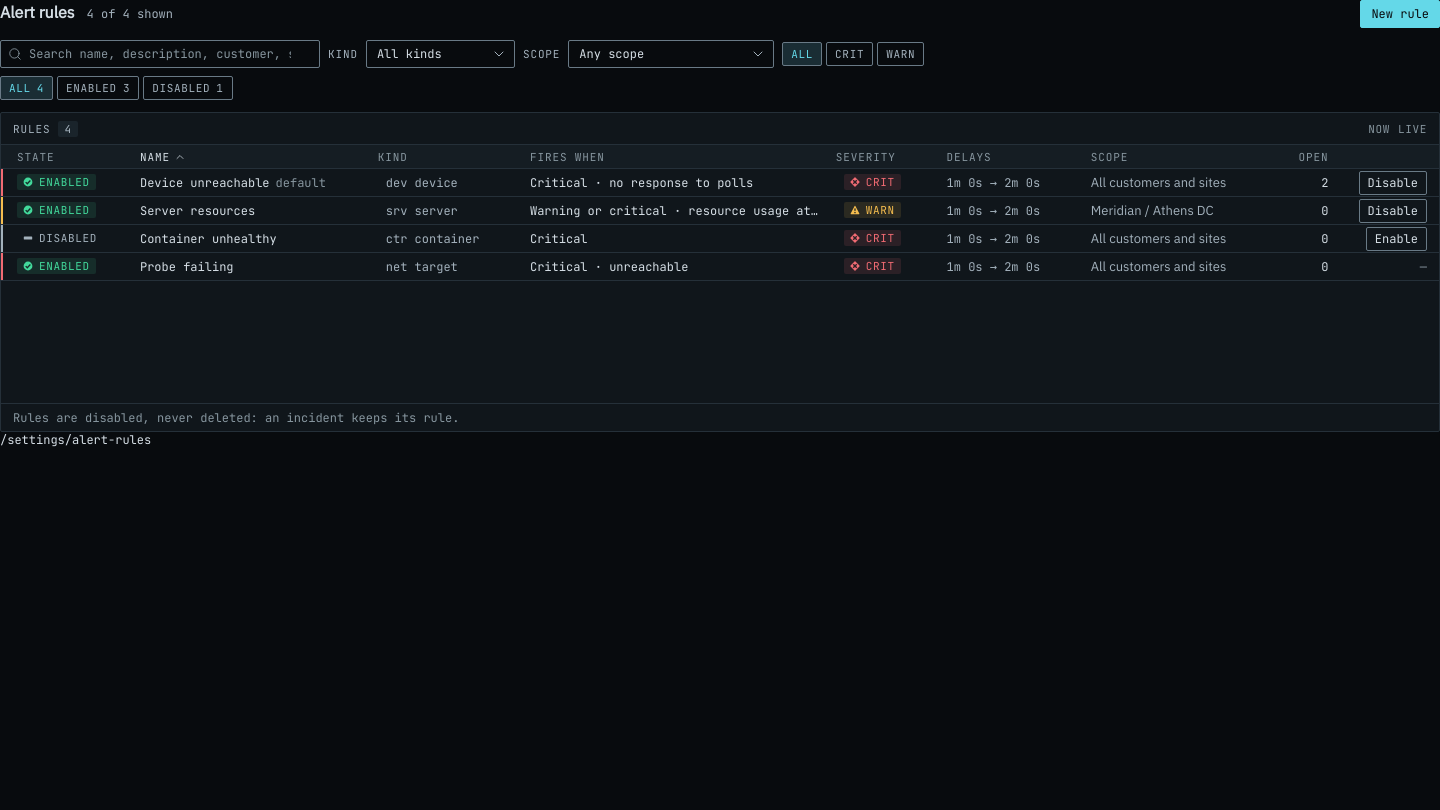
switching a rule on or off › warns, and changes nothing, before disabling a rule that has open incidents
Click the button with aria-label "Disable rule Device unreachable": (1393, 182) [1359,170,1427,194]
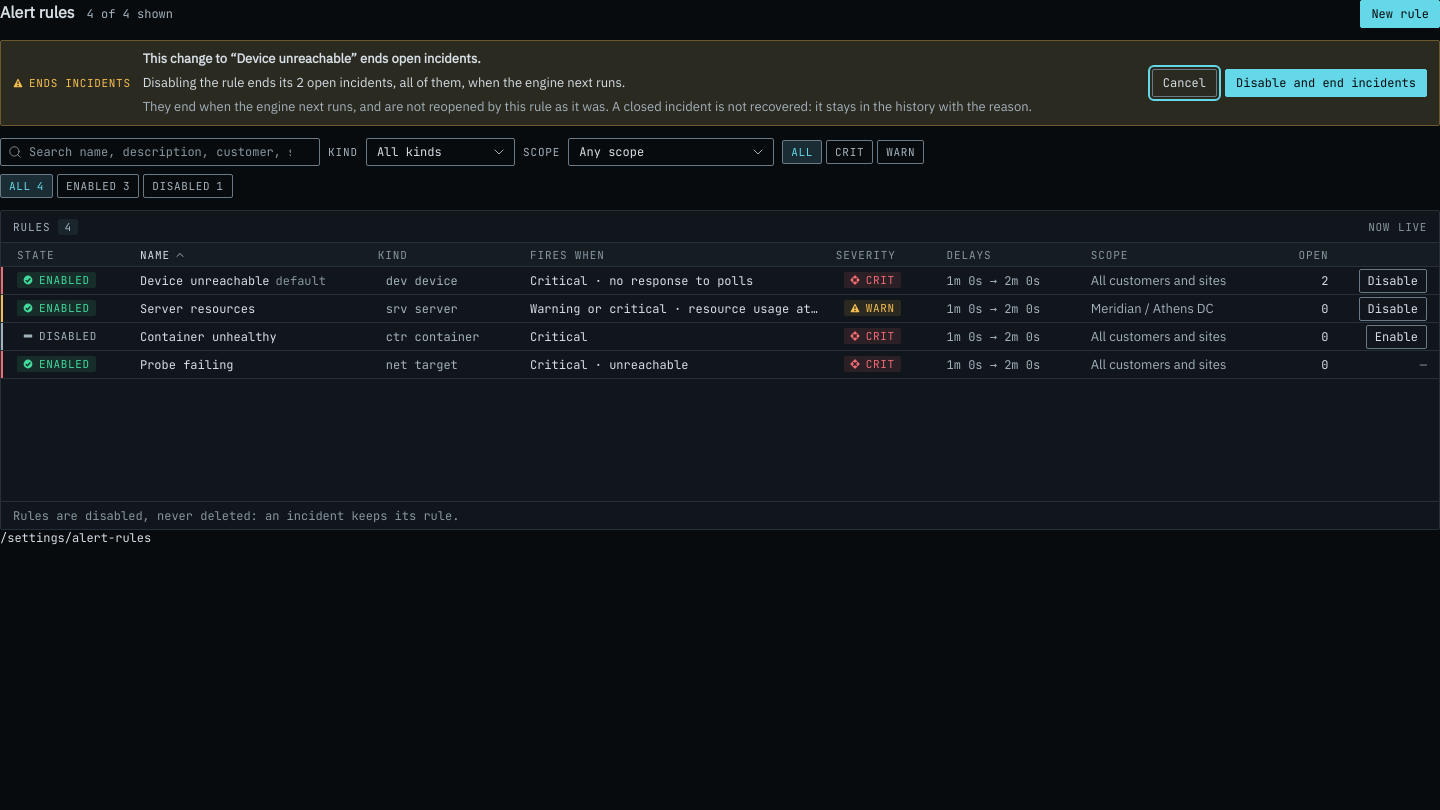
Expected: the dialog shows "ENDS INCIDENTS", [29,76,131,90]
Expected: the dialog shows "This change to “Device unreachable” ends open incidents.", [0,40,1439,126]
Expected: the dialog shows "Disabling the rule ends its 2 open incidents, all of them", [143,74,625,91]
